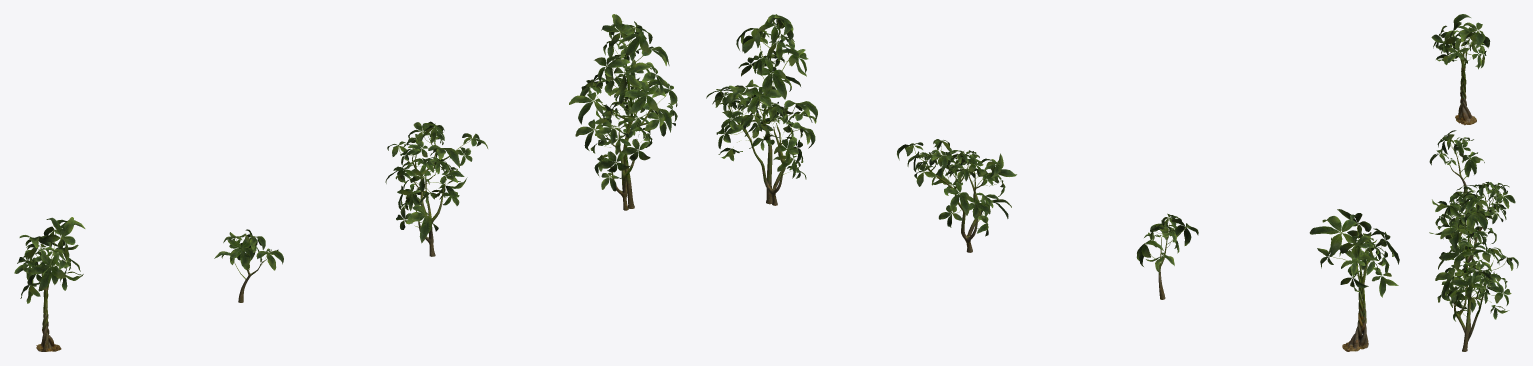
The model's file is pachira_aquatica_01_lod1_1k_web.glb.
3 views of the same model, side by side, from view 1: azimuth 30°, elevation 25°; view 2: azimuth 150°, elevation 25°; view 3: azimuth 270°, elevation 25° (orthographic). The views are drawn at different scales.
Parts seen in each view (by area): view 1: pachira_aquatica_01_leaves_d, pachira_aquatica_01_leaves_c, pachira_aquatica_01_leaves_a, pachira_aquatica_01_leaves_b, pachira_aquatica_01_bark_d, pachira_aquatica_01_bark_c, pachira_aquatica_01_bark_a; view 2: pachira_aquatica_01_leaves_d, pachira_aquatica_01_leaves_c, pachira_aquatica_01_leaves_a, pachira_aquatica_01_leaves_b, pachira_aquatica_01_bark_d, pachira_aquatica_01_bark_a, pachira_aquatica_01_bark_c; view 3: pachira_aquatica_01_leaves_d, pachira_aquatica_01_leaves_c, pachira_aquatica_01_leaves_a, pachira_aquatica_01_leaves_b, pachira_aquatica_01_bark_d, pachira_aquatica_01_bark_a, pachira_aquatica_01_bark_c, pachira_aquatica_01_bark_b.
Boxes of the visible parts, <box> form: pachira_aquatica_01_leaves_d: <box>569,14,677,191</box>; pachira_aquatica_01_leaves_c: <box>385,121,487,243</box>; pachira_aquatica_01_leaves_a: <box>14,217,85,303</box>; pachira_aquatica_01_leaves_b: <box>214,229,283,279</box>; pachira_aquatica_01_bark_d: <box>595,44,652,210</box>; pachira_aquatica_01_bark_c: <box>409,137,457,256</box>; pachira_aquatica_01_bark_a: <box>36,265,61,351</box>; pachira_aquatica_01_leaves_d: <box>706,14,817,179</box>; pachira_aquatica_01_leaves_c: <box>897,139,1016,236</box>; pachira_aquatica_01_leaves_a: <box>1309,209,1399,297</box>; pachira_aquatica_01_leaves_b: <box>1136,213,1198,274</box>; pachira_aquatica_01_bark_d: <box>728,44,792,205</box>; pachira_aquatica_01_bark_a: <box>1342,259,1368,351</box>; pachira_aquatica_01_bark_c: <box>923,159,989,252</box>; pachira_aquatica_01_leaves_d: <box>1429,190,1518,321</box>; pachira_aquatica_01_leaves_c: <box>1432,181,1515,244</box>; pachira_aquatica_01_leaves_a: <box>1431,14,1490,69</box>; pachira_aquatica_01_leaves_b: <box>1429,130,1484,179</box>; pachira_aquatica_01_bark_d: <box>1454,219,1492,351</box>; pachira_aquatica_01_bark_a: <box>1455,50,1476,125</box>; pachira_aquatica_01_bark_c: <box>1453,190,1497,268</box>; pachira_aquatica_01_bark_b: <box>1447,149,1467,195</box>.
Bounding box in the file's own units: 6.87 × 1.9 × 0.997.
2 materials, 2 textured.
